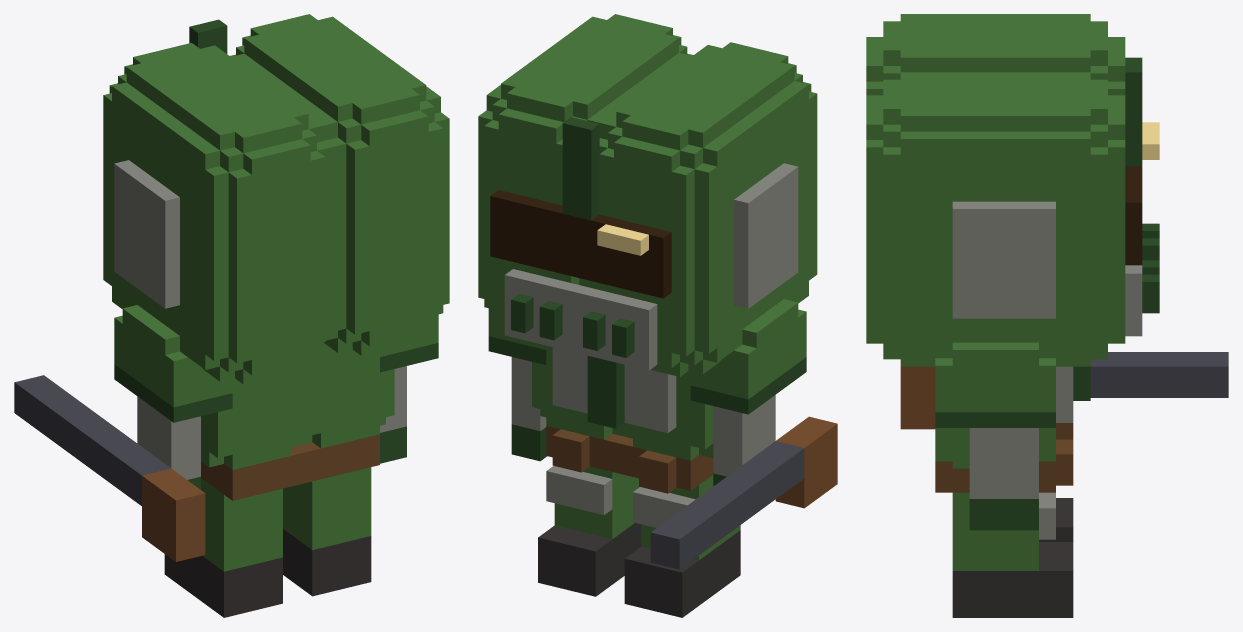
Rendered from doom_slayer.obj.
3 renders of one model, left to right at view 1: azimuth 30°, elevation 25°; view 2: azimuth 150°, elevation 25°; view 3: azimuth 270°, elevation 25°, orthographic. The views are drawn at different scales.
Parts seen in each view (by area): view 1: casco, torso, piernas, botas, orejeras, escopeta, hombreras, cintura, escopeta_madera, brazos, hombreras_filo, casco_cresta (+1 smaller); view 2: casco, botas, visor, escopeta, orejeras, bozal, hombreras, torso, pecho, brazos, rodilleras, piernas (+9 smaller); view 3: casco, orejeras, hombreras, botas, escopeta, brazos, piernas, escopeta_madera, guantes, casco_cresta, hombreras_filo, torso (+9 smaller).
Boxes of the visible parts, left/top/right/bottom form: casco: left=103, top=14, right=449, bottom=384; torso: left=201, top=342, right=394, bottom=469; piernas: left=201, top=467, right=371, bottom=571; botas: left=164, top=529, right=371, bottom=617; orejeras: left=114, top=160, right=179, bottom=308; escopeta: left=14, top=375, right=170, bottom=505; hombreras: left=114, top=305, right=438, bottom=407; cintura: left=201, top=434, right=379, bottom=500; escopeta_madera: left=142, top=468, right=205, bottom=561; brazos: left=137, top=366, right=406, bottom=479; hombreras_filo: left=114, top=343, right=438, bottom=422; casco_cresta: left=189, top=19, right=227, bottom=53; casco: left=478, top=14, right=817, bottom=376; botas: left=538, top=523, right=740, bottom=617; visor: left=490, top=190, right=671, bottom=298; escopeta: left=650, top=441, right=804, bottom=569; orejeras: left=734, top=163, right=798, bottom=308; bozal: left=504, top=269, right=657, bottom=370; hombreras: left=488, top=299, right=806, bottom=399; torso: left=532, top=345, right=713, bottom=460; pecho: left=552, top=347, right=676, bottom=433; brazos: left=511, top=357, right=775, bottom=476; rodilleras: left=546, top=466, right=695, bottom=527; piernas: left=554, top=466, right=740, bottom=560; casco: left=866, top=14, right=1125, bottom=366; orejeras: left=952, top=201, right=1055, bottom=318; hombreras: left=935, top=342, right=1055, bottom=412; botas: left=952, top=498, right=1073, bottom=617; escopeta: left=1090, top=352, right=1228, bottom=397; brazos: left=969, top=428, right=1038, bottom=498; piernas: left=952, top=492, right=1038, bottom=570; escopeta_madera: left=900, top=366, right=935, bottom=429; guantes: left=969, top=499, right=1038, bottom=530; casco_cresta: left=1125, top=57, right=1142, bottom=166; hombreras_filo: left=935, top=412, right=1055, bottom=427; torso: left=935, top=428, right=1055, bottom=468.
Size of the model in its own units: 0.76 by 1.32 by 0.84.
